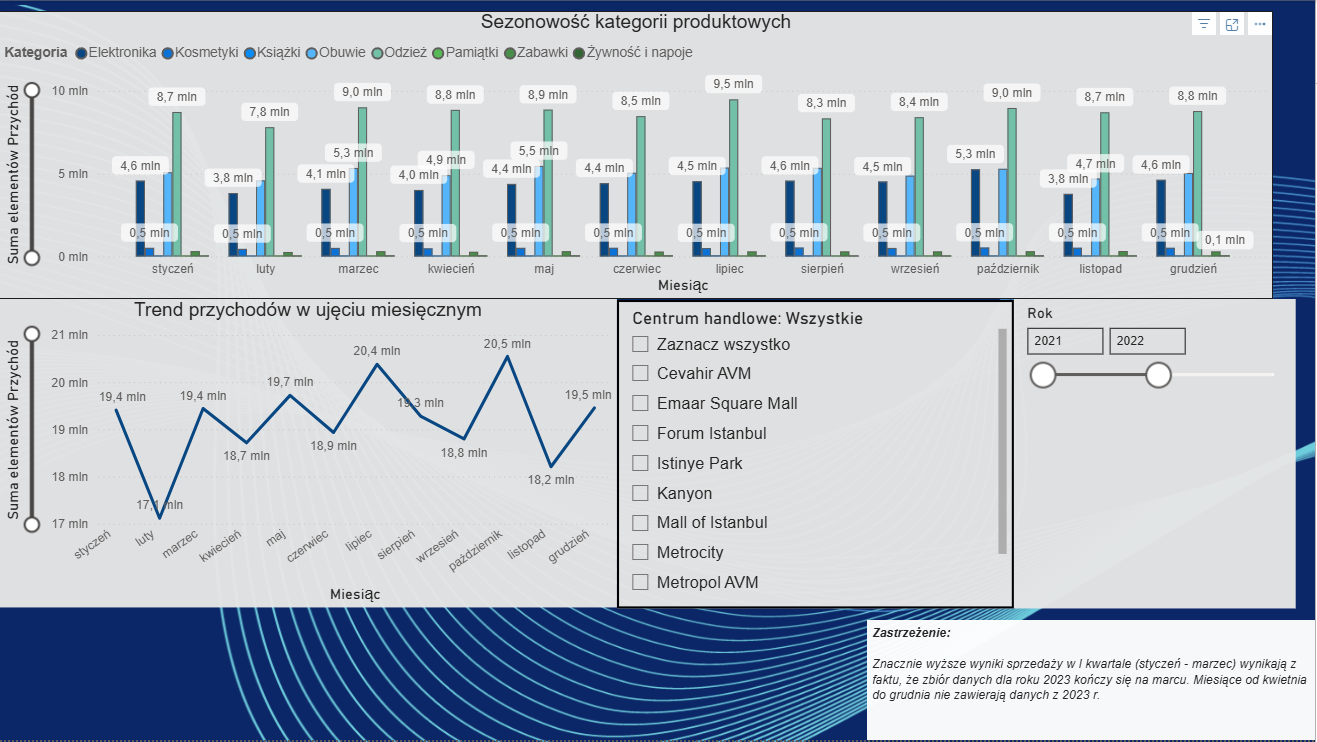

The dashboard page shown, as its layout file describes it:
{"tool":"powerbi","page":{"name":"Kiedy kupują najwięcej (Sezonowość)?","canvas":[1280,720],"ordinal":3},"visuals":[{"type":"lineClusteredColumnComboChart","title":"Sezonowość kategorii produktowych","fields":{"Category":["customer_shopping_data.invoice_date.Odmiana.Hierarchia dat.Miesiąc"],"Y":["Sum(customer_shopping_data.Przychód)"],"Series":["customer_shopping_data.category"]},"box":[0,10.7,1239.1,280.1],"z":0},{"type":"lineChart","title":"Trend przychodów w ujęciu miesięcznym","fields":{"Category":["customer_shopping_data.invoice_date.Odmiana.Hierarchia dat.Miesiąc"],"Y":["Sum(customer_shopping_data.Przychód)"]},"box":[0,290.8,601.1,299.6],"z":1000},{"type":"slicer","fields":{"Values":["customer_shopping_data.invoice_date.Odmiana.Hierarchia dat.Rok"]},"box":[987.2,290.8,274.3,300.5],"z":2000},{"type":"textbox","box":[844.3,603,435.7,116.7],"z":3000},{"type":"slicer","fields":{"Values":["customer_shopping_data.shopping_mall"]},"box":[601.1,291.8,386.1,299.6],"z":4000}]}

Visuals, with their boxes in screenshot pixels (x1, y1, x2, y2), scaled from the page's 1280x720 canvas onto the 1317x742 screenshot:
"Sezonowość kategorii produktowych" lineClusteredColumnComboChart: l=0, t=11, r=1275, b=300
"Trend przychodów w ujęciu miesięcznym" lineChart: l=0, t=300, r=618, b=608
slicer - customer_shopping_data.invoice_date.Odmiana.Hierarchia dat.Rok: l=1016, t=300, r=1298, b=609
textbox: l=869, t=621, r=1316, b=741
slicer - customer_shopping_data.shopping_mall: l=618, t=301, r=1016, b=609
